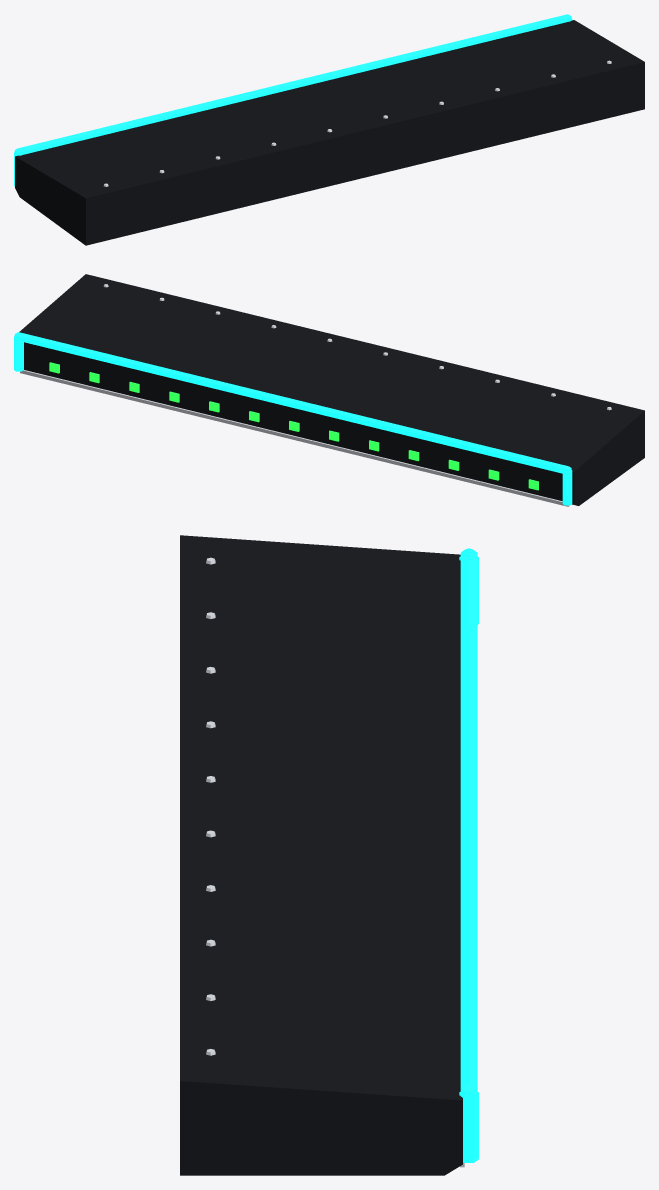
File: visor_neon_frame.glb
3 renders of one model, top to bottom at view 1: azimuth 30°, elevation 25°; view 2: azimuth 150°, elevation 25°; view 3: azimuth 270°, elevation 25°, orthographic. The views are drawn at different scales.
Parts seen in each view (by area): view 1: visor_neon_frame_deco_body, visor_neon_frame_deco_neon; view 2: visor_neon_frame_deco_body, visor_neon_frame_deco_neon, visor_neon_frame_chrome, visor_neon_frame_deco_led; view 3: visor_neon_frame_deco_body, visor_neon_frame_deco_neon.
Part boxes in pixels (<box>): visor_neon_frame_deco_body: <box>15,20,644,245</box>; visor_neon_frame_deco_neon: <box>14,14,572,186</box>; visor_neon_frame_deco_body: <box>19,274,644,505</box>; visor_neon_frame_deco_neon: <box>14,332,572,505</box>; visor_neon_frame_chrome: <box>20,284,611,506</box>; visor_neon_frame_deco_led: <box>49,362,538,490</box>; visor_neon_frame_deco_body: <box>180,535,462,1175</box>; visor_neon_frame_deco_neon: <box>459,548,478,1162</box>.
Bounding box in the file's own units: 2.1 × 0.1755 × 0.486.
